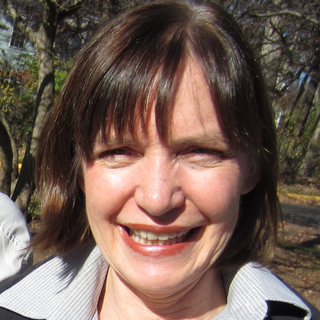eye: (176, 142, 228, 164), (95, 141, 141, 165)
